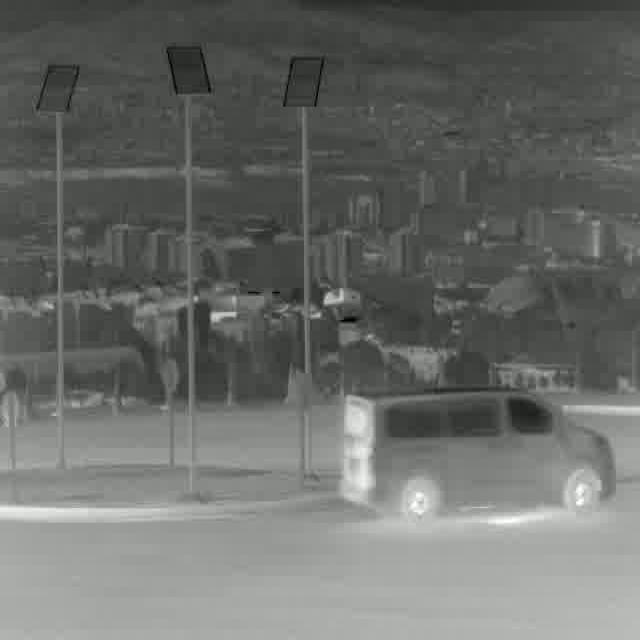Car: (342, 391, 616, 521)
